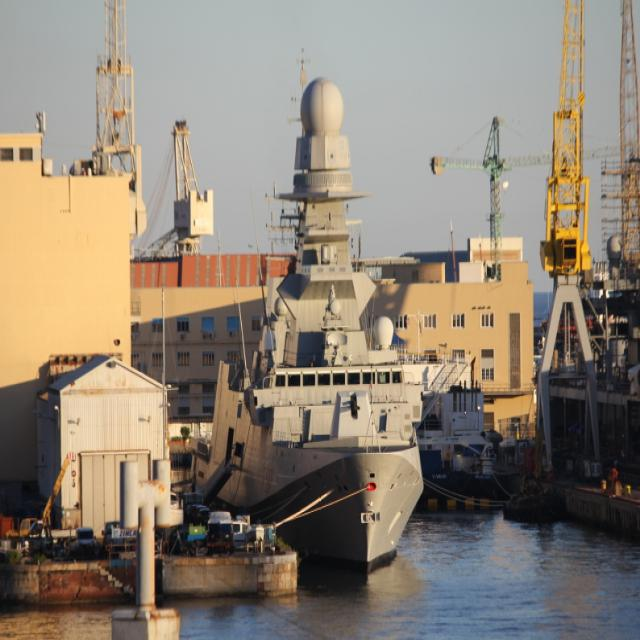Fragata: (230, 31, 426, 588)
